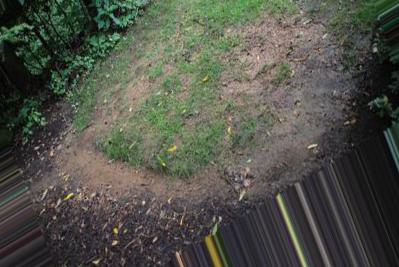patch: (162, 171, 203, 206), (250, 38, 283, 74), (262, 95, 292, 132), (178, 33, 216, 61), (90, 82, 125, 111), (102, 159, 130, 193), (141, 57, 171, 87), (223, 151, 253, 180), (67, 143, 93, 174), (262, 141, 296, 163), (226, 72, 244, 105), (315, 92, 337, 119), (316, 43, 335, 69), (181, 112, 197, 129)
